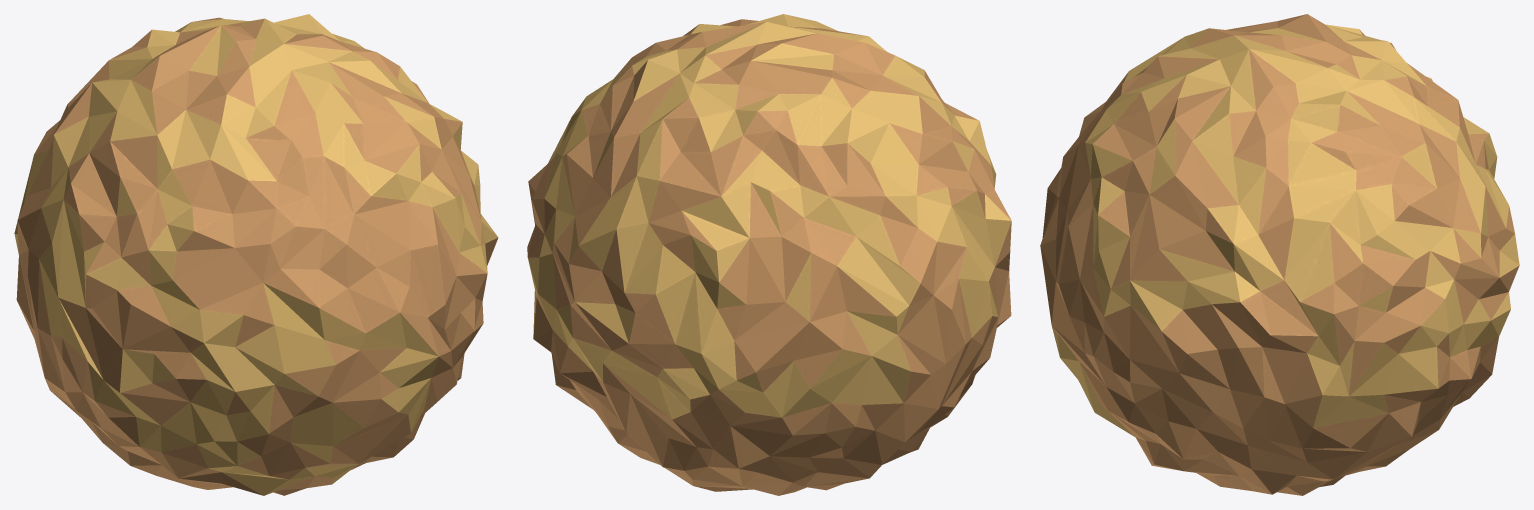
The model's file is Venus.FBX.
3 views of the same model, side by side, from view 1: azimuth 30°, elevation 25°; view 2: azimuth 150°, elevation 25°; view 3: azimuth 270°, elevation 25° (orthographic). The views are drawn at different scales.
Parts seen in each view (by area): view 1: Venus; view 2: Venus; view 3: Venus.
Part boxes in pixels (x1,y1,x2,y2): Venus: [14, 14, 498, 495]; Venus: [527, 14, 1011, 495]; Venus: [1040, 14, 1519, 495].
Size of the model in its own units: 0.4723 by 0.4727 by 0.4758.
